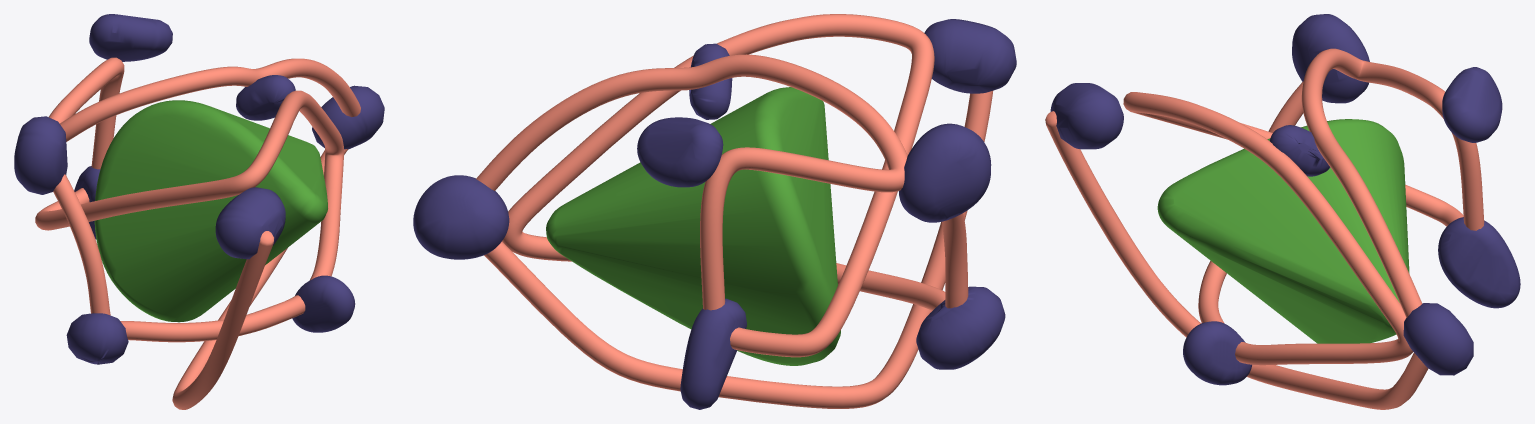
3 renders of one model, left to right at view 1: azimuth 30°, elevation 25°; view 2: azimuth 150°, elevation 25°; view 3: azimuth 270°, elevation 25°, orthographic. The views are drawn at different scales.
Parts seen in each view (by area): view 1: s.0019, s.0009, s.0018, s.0015, s.0011, s.0014, s.0016, s.0017, s.0012, s.0013; view 2: s.0019, s.0009, s.0015, s.0017, s.0018, s.0016, s.0011, s.0013, s.0012; view 3: s.0019, s.0009, s.0013, s.0015, s.0018, s.0017, s.0011, s.0014, s.0012.
Boxes of the visible parts, x1,y1,x2,y2 form: s.0019: (35, 57, 360, 409); s.0009: (94, 100, 327, 322); s.0018: (215, 187, 285, 259); s.0015: (14, 116, 67, 194); s.0011: (89, 14, 172, 61); s.0014: (292, 275, 355, 332); s.0016: (66, 313, 128, 364); s.0017: (312, 85, 384, 149); s.0012: (236, 75, 295, 120); s.0013: (74, 166, 100, 239); s.0019: (476, 14, 992, 408); s.0009: (546, 87, 840, 365); s.0015: (898, 123, 991, 222); s.0017: (413, 175, 509, 259); s.0018: (924, 19, 1016, 93); s.0016: (916, 286, 1005, 369); s.0011: (637, 117, 723, 187); s.0013: (680, 298, 746, 409); s.0012: (689, 43, 732, 119); s.0019: (1045, 48, 1484, 409); s.0009: (1157, 119, 1409, 343); s.0013: (1438, 217, 1520, 308); s.0015: (1292, 14, 1369, 103); s.0018: (1050, 83, 1123, 149); s.0017: (1403, 303, 1473, 375); s.0011: (1442, 67, 1502, 142); s.0014: (1183, 321, 1251, 385); s.0012: (1270, 125, 1330, 176).
Size of the model in its own units: 0.2633 by 0.1824 by 0.2414.
